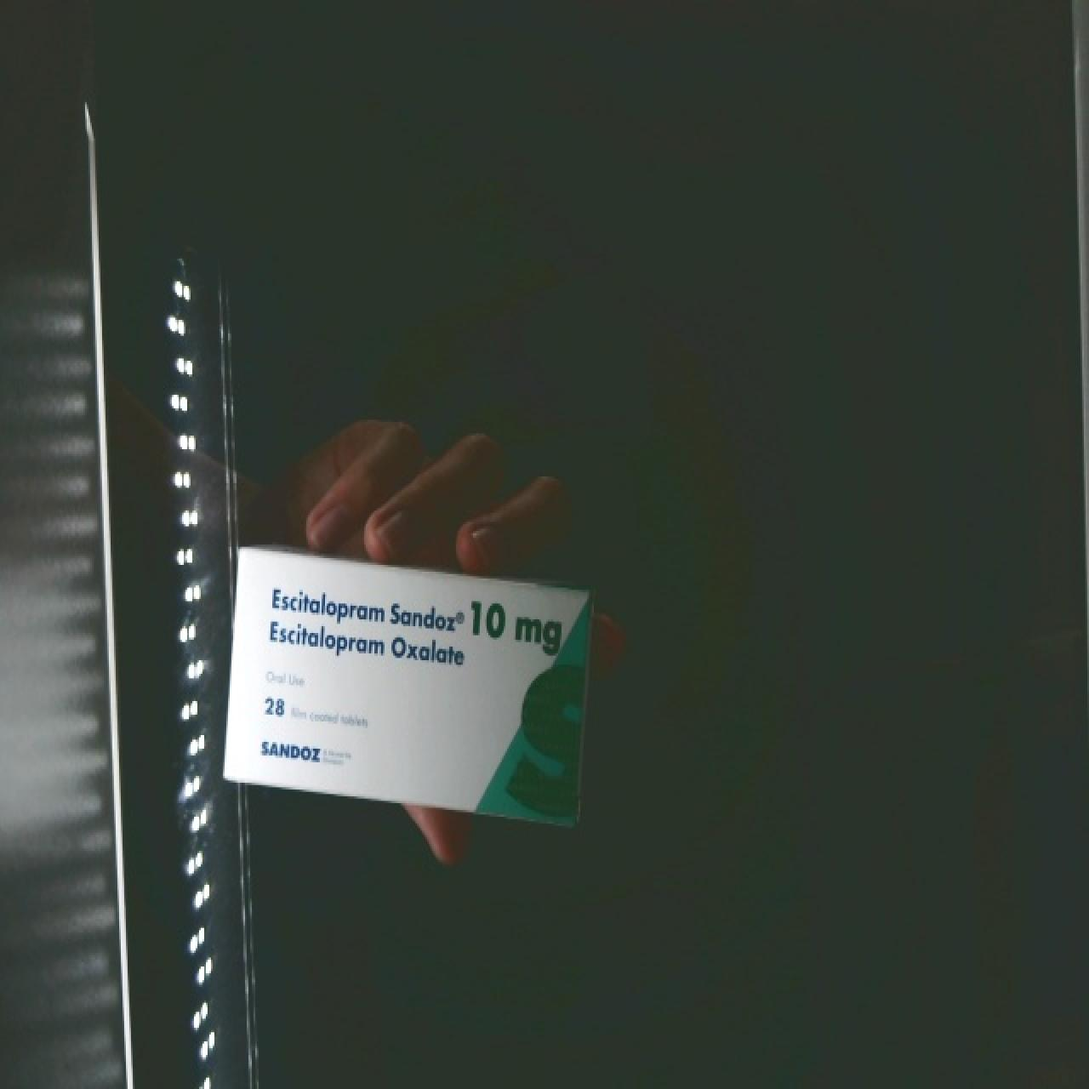medicine_label_obb: (235, 560, 485, 694)
